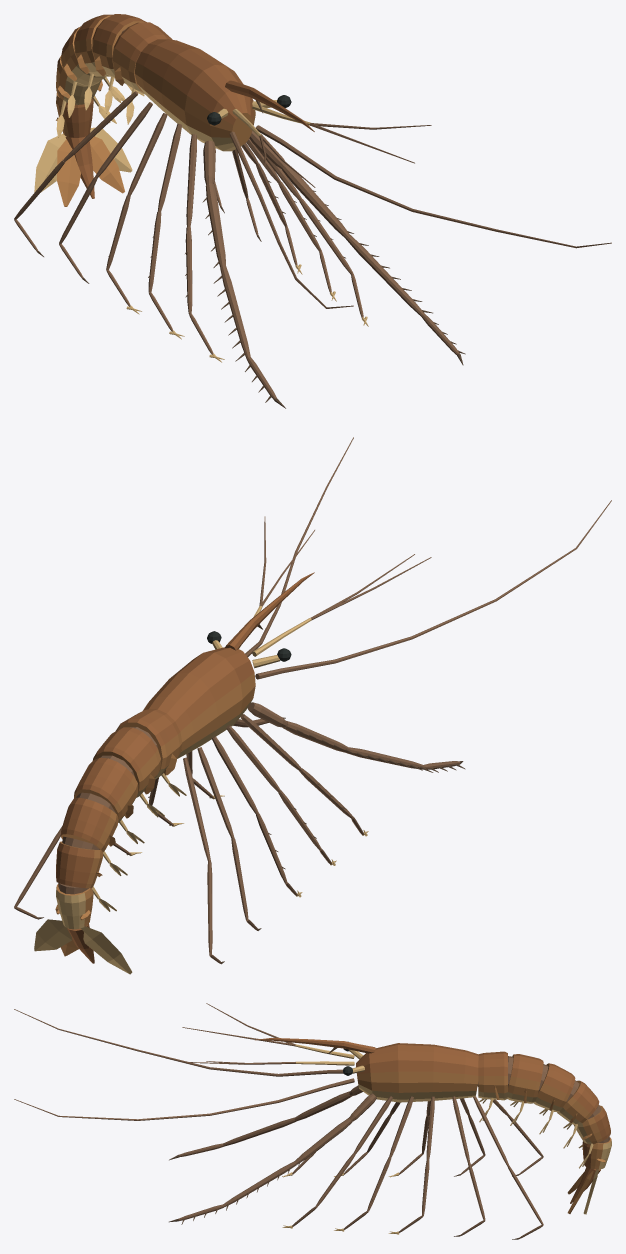
The picture shows the model from 3 angles, top to bottom: view 1: azimuth 30°, elevation 25°; view 2: azimuth 150°, elevation 25°; view 3: azimuth 270°, elevation 25°; orthographic projection. The views are drawn at different scales.
Visible parts, largest first — view 1: aeger-export-mesh; view 2: aeger-export-mesh; view 3: aeger-export-mesh.
Boxes of the visible parts, left/top/right/bottom form: aeger-export-mesh: left=14, top=14, right=611, bottom=408; aeger-export-mesh: left=14, top=437, right=611, bottom=974; aeger-export-mesh: left=14, top=1003, right=611, bottom=1239.
Bounding box in the file's own units: 0.0622 × 0.0566 × 0.1741.
